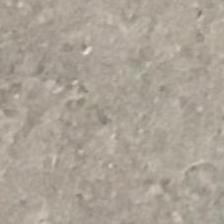Non_Crack: (6, 4, 224, 224)
